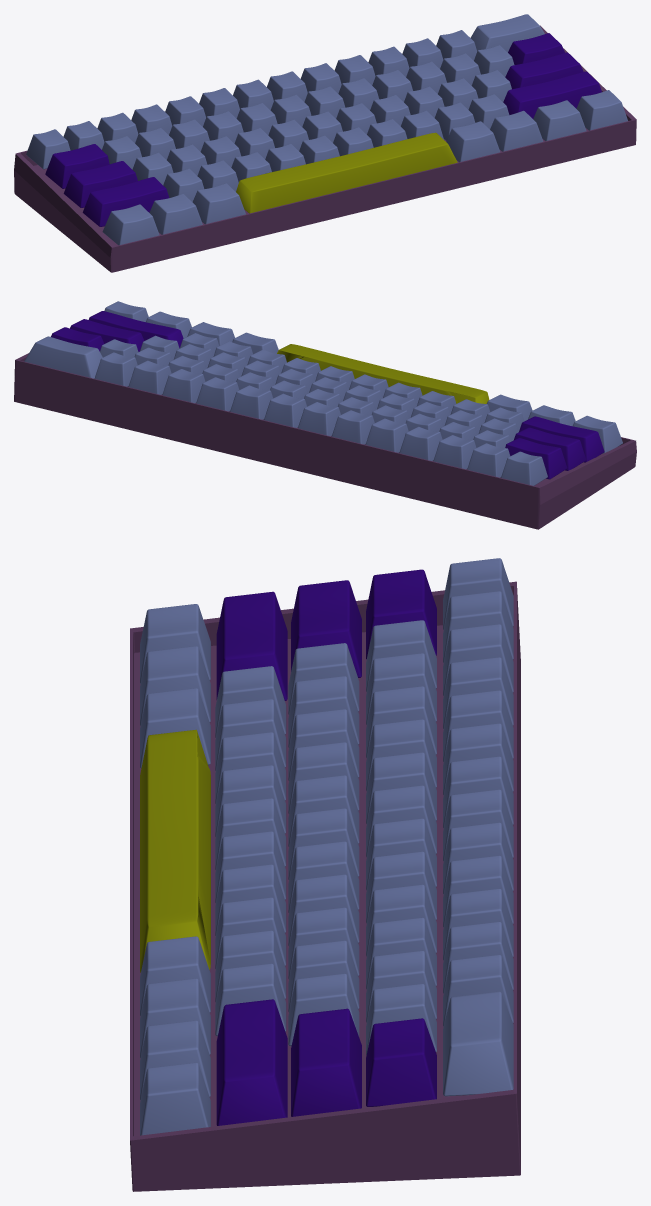
File: keyboard.glb
3 views of the same model, one above another, from view 1: azimuth 30°, elevation 25°; view 2: azimuth 150°, elevation 25°; view 3: azimuth 270°, elevation 25° (orthographic). The views are drawn at different scales.
Parts seen in each view (by area): view 1: Shell, Spacebar, RShift, LShift, CapsLock, Enter, Backspace, LCtrl, Tab, RAlt, LAlt, RContext (+50 smaller); view 2: Shell, Spacebar, Backspace, LShift, RShift, CapsLock, Escape, Tab, 5, 0, 6, 8 (+50 smaller); view 3: Shell, Spacebar, RShift, Enter, Backspace, Pipe, LShift, CapsLock, Fn, Tab, LAlt, RCtrl (+50 smaller).
Boxes of the visible parts, x1,y1,x2,y2 form: Shell: (14,25,636,272); Spacebar: (236,132,457,213); RShift: (503,71,601,118); LShift: (82,177,169,226); CapsLock: (63,161,137,207); Enter: (505,52,583,89); Backspace: (470,14,544,52); LCtrl: (102,204,159,245); Tab: (45,144,109,188); RAlt: (446,121,500,162); LAlt: (192,183,245,224); RContext: (490,110,543,151); Shell: (14,353,636,529); Spacebar: (277,344,489,403); Backspace: (24,336,102,378); LShift: (519,416,604,462); RShift: (88,311,183,347); CapsLock: (514,427,586,470); Escape: (501,451,547,485); Tab: (505,438,567,479); 5: (331,410,374,444); 0: (162,369,205,403); 6: (298,402,340,436); 8: (230,385,273,419); Shell: (130,581,520,1191); Spacebar: (140,729,210,972); RShift: (216,999,287,1125); Enter: (291,1008,361,1116); Backspace: (443,991,513,1096); Pipe: (366,1018,436,1106); LShift: (216,591,287,700); CapsLock: (291,580,361,677); Fn: (140,1062,210,1135); Tab: (366,569,436,659); LAlt: (140,688,210,768); RCtrl: (140,1020,210,1100).
Size of the model in its own units: 7.57 by 0.9339 by 2.44.
